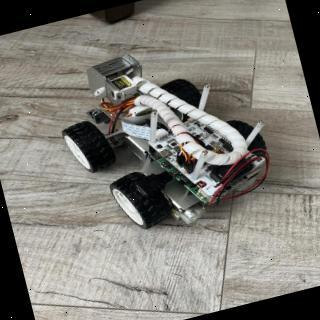vehicle: (47, 23, 287, 255)
